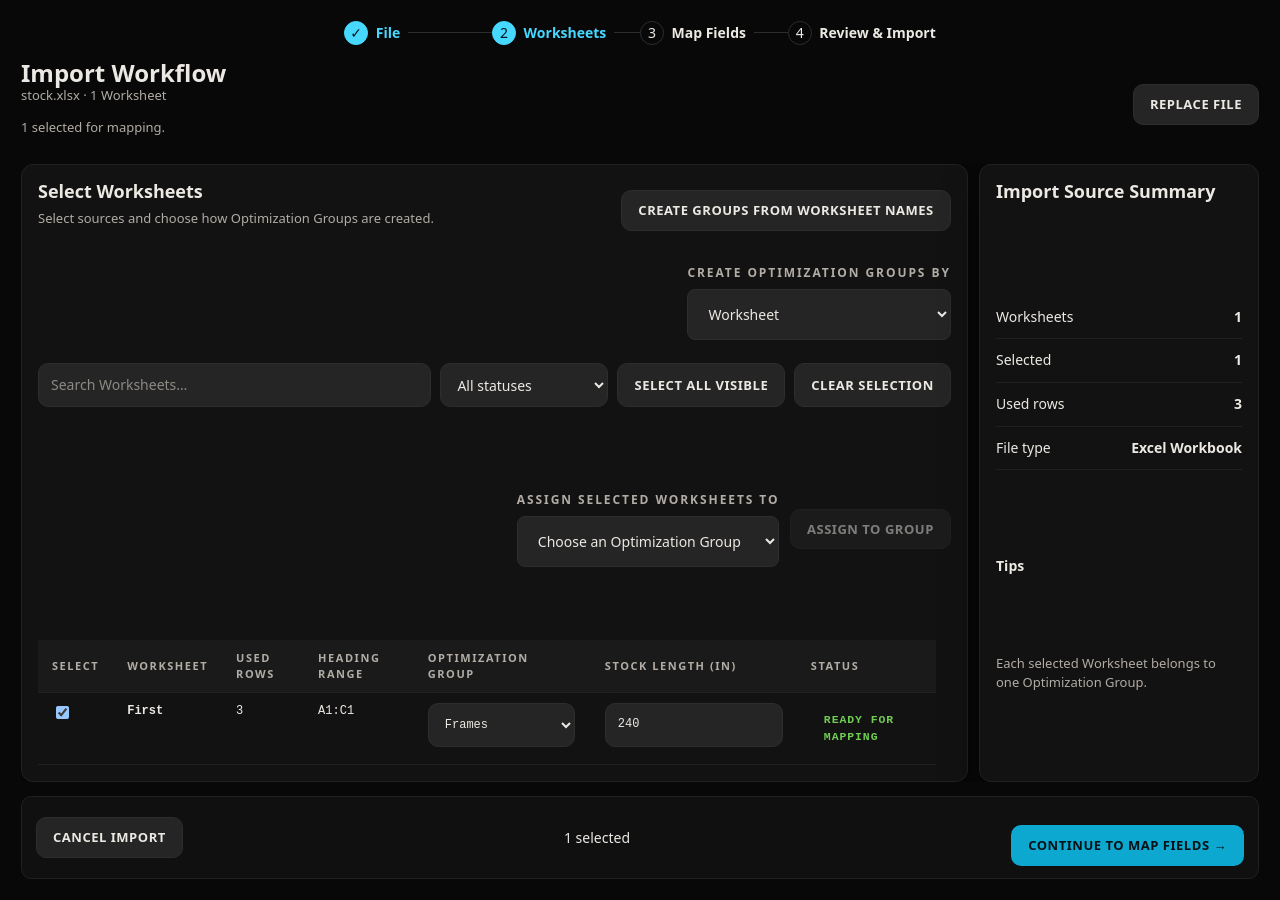
Test case: Stock-Length Import Workflow › refreshes Imported Preview and entry counts live when required mappings become complete
Click the button "Continue to Map Fields →" at (1128, 846), box [1011, 825, 1244, 866]
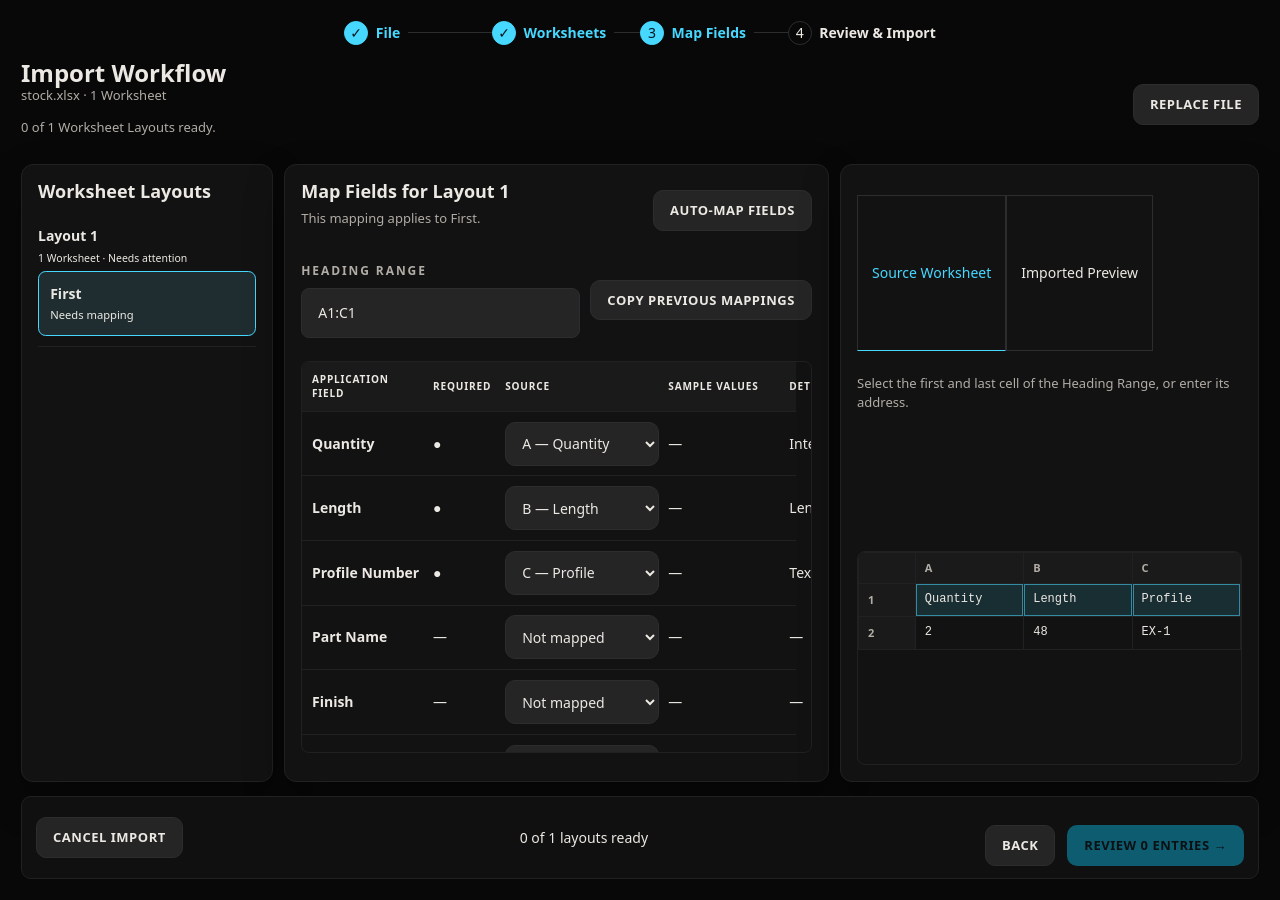
Click the tab "Imported Preview" at (1080, 273), box [1006, 195, 1153, 351]
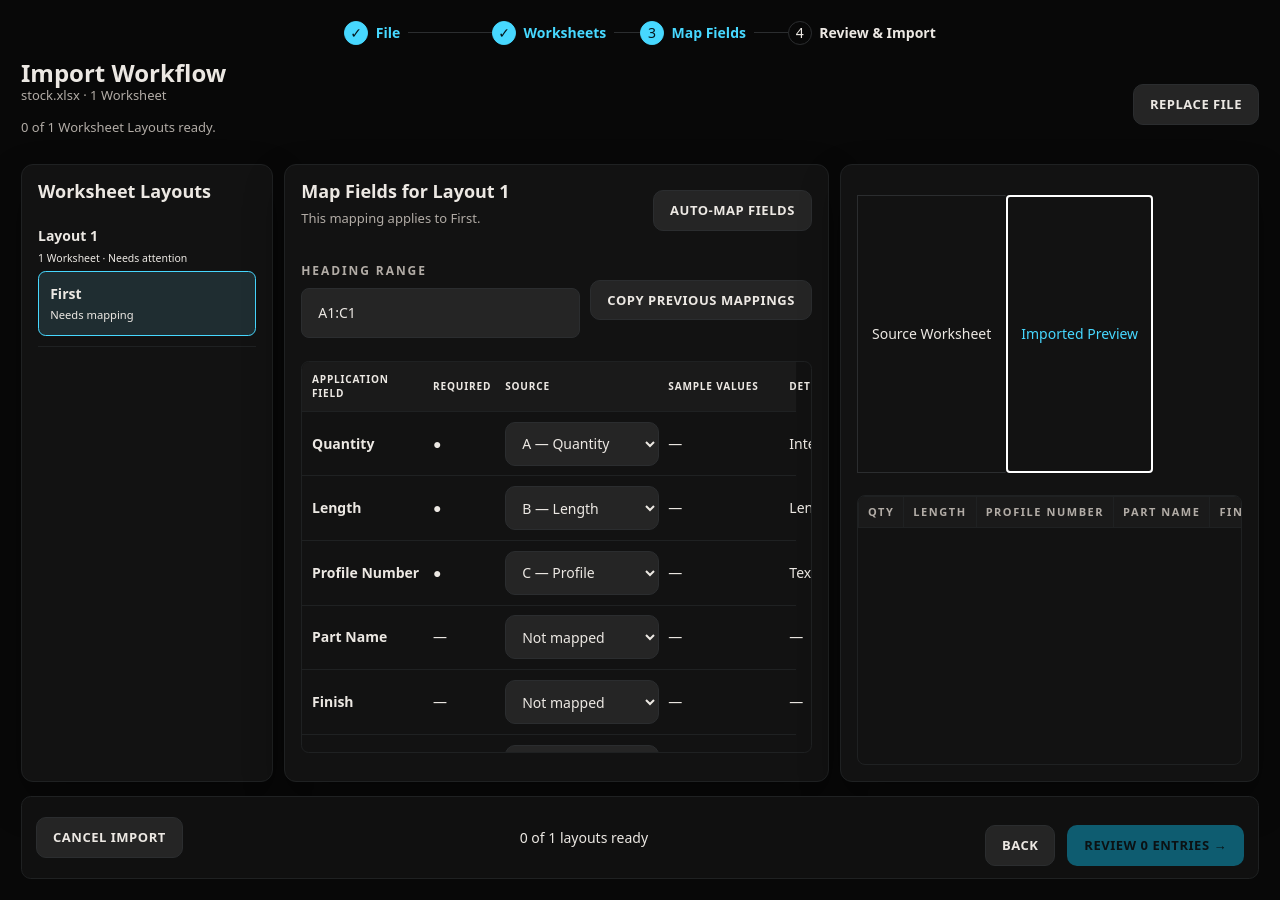
Result: the button "Review 0 Entries →" is disabled at [1067, 825, 1244, 866]
Select "C — Profile" in the dropdown named "First column for Profile Number" at (582, 573), box [505, 551, 659, 595]
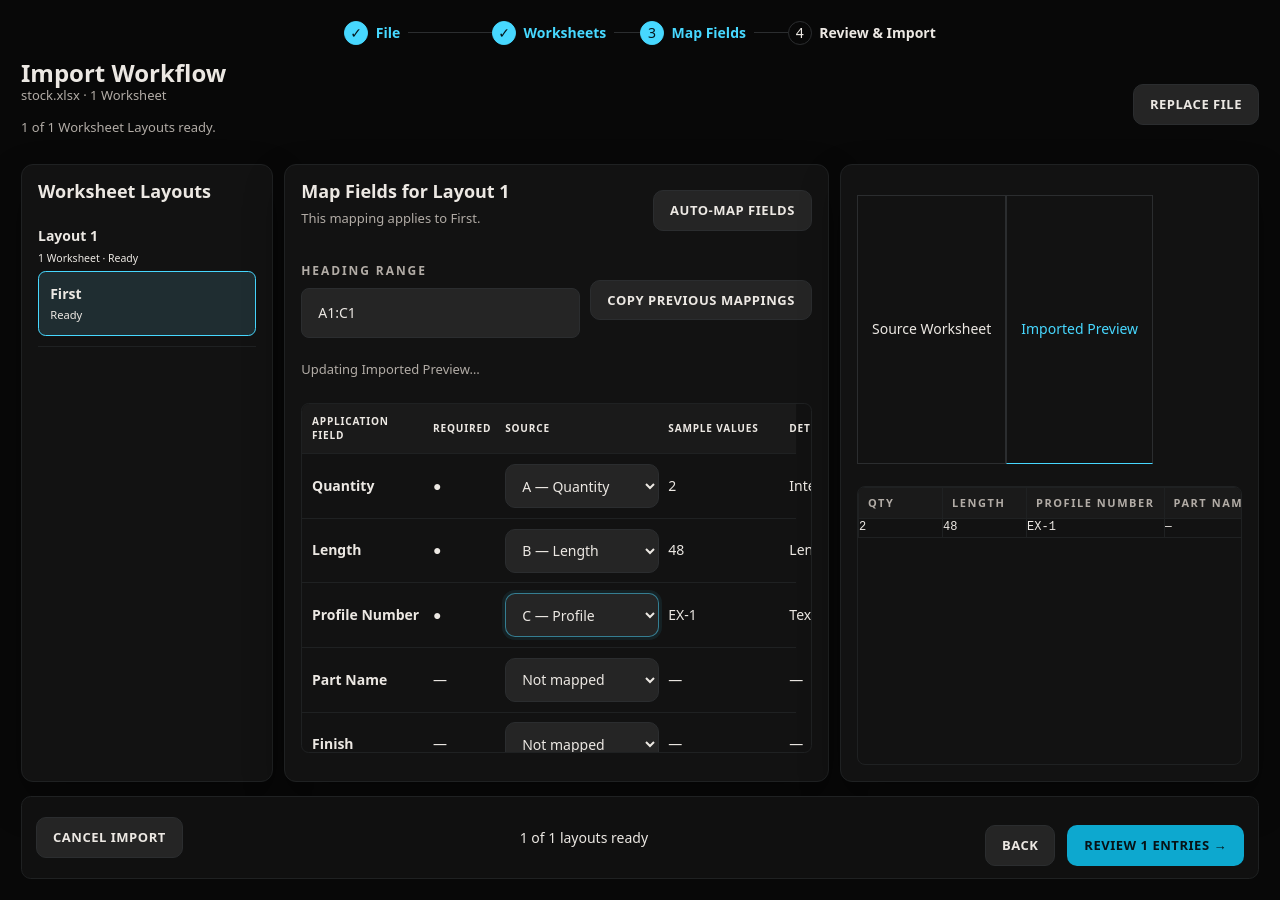
Result: the button "Review 1 Entries →" is enabled at [1067, 825, 1244, 866]
Result: the cell "EX-1" is shown at [1026, 519, 1164, 537]
